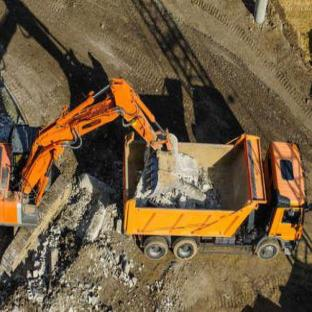ExcavationMachinery: (0, 76, 178, 285)
Vehicle: (122, 127, 309, 264)
